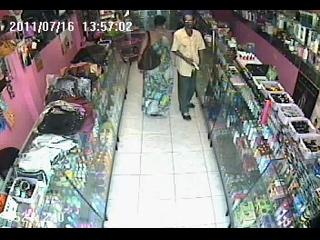Normal: (170, 13, 206, 120), (137, 15, 174, 116), (137, 31, 162, 71)
